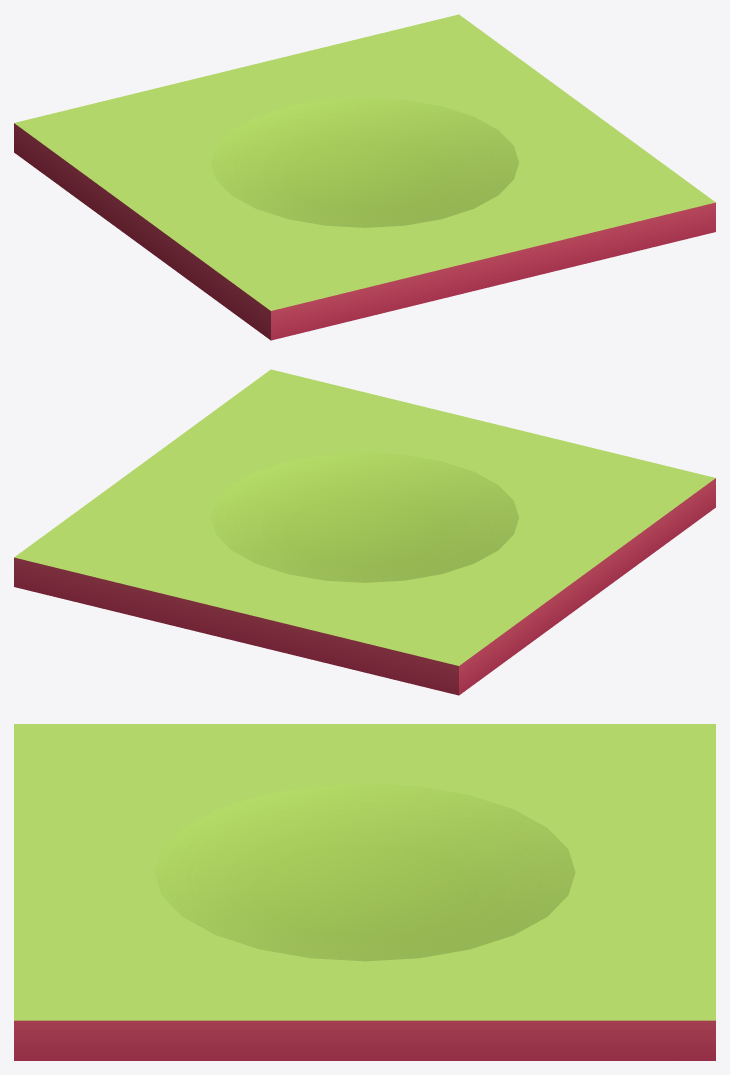
Rendered from bump-down.gltf.
The picture shows the model from 3 angles, top to bottom: view 1: azimuth 30°, elevation 25°; view 2: azimuth 150°, elevation 25°; view 3: azimuth 270°, elevation 25°; orthographic projection. The views are drawn at different scales.
Parts seen in each view (by area): view 1: bump-down; view 2: bump-down; view 3: bump-down.
Boxes of the visible parts, <box> form: bump-down: <box>14,14,715,340</box>; bump-down: <box>14,369,715,695</box>; bump-down: <box>14,724,715,1060</box>.
Bounding box in the file's own units: 0.9999 × 0.0633 × 0.9999.
Materials: 1 (1 with a texture image).
